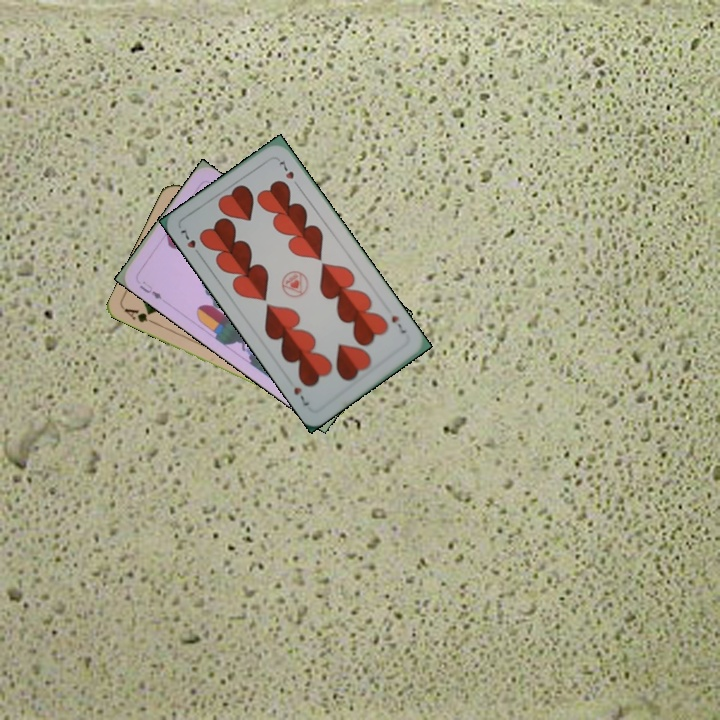EU: (135, 277, 165, 302)
GA: (120, 304, 159, 327)
H7: (176, 225, 204, 260), (387, 311, 409, 336)
